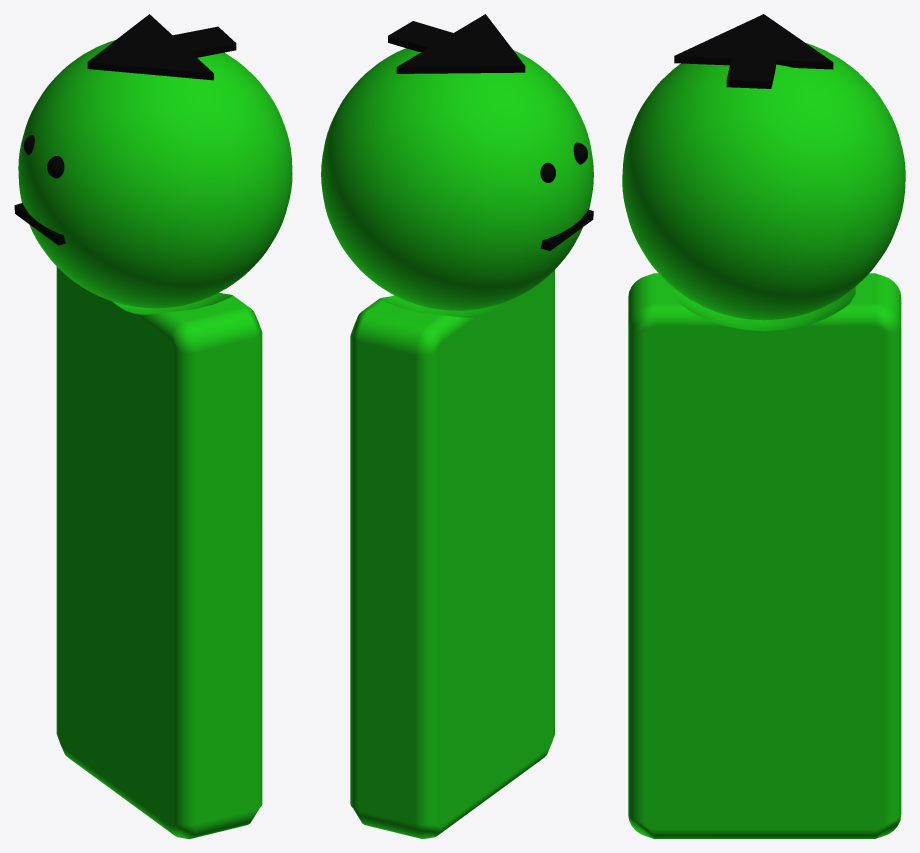
File: green_poker.obj
3 views of the same model, side by side, from view 1: azimuth 30°, elevation 25°; view 2: azimuth 150°, elevation 25°; view 3: azimuth 270°, elevation 25° (orthographic). The views are drawn at different scales.
Parts seen in each view (by area): view 1: 1_Curve.002_Curve.002, 5.002_Curve.002_Curve.002; view 2: 1_Curve.002_Curve.002, 5.002_Curve.002_Curve.002; view 3: 1_Curve.002_Curve.002, 5.002_Curve.002_Curve.002.
Part boxes in pixels (x1,y1,x2,y2): 1_Curve.002_Curve.002: (18, 40, 292, 838); 5.002_Curve.002_Curve.002: (14, 14, 236, 245); 1_Curve.002_Curve.002: (321, 48, 593, 838); 5.002_Curve.002_Curve.002: (388, 14, 593, 251); 1_Curve.002_Curve.002: (622, 43, 905, 838); 5.002_Curve.002_Curve.002: (674, 14, 833, 88).
Size of the model in its own units: 0.1662 by 0.4993 by 0.1661.
